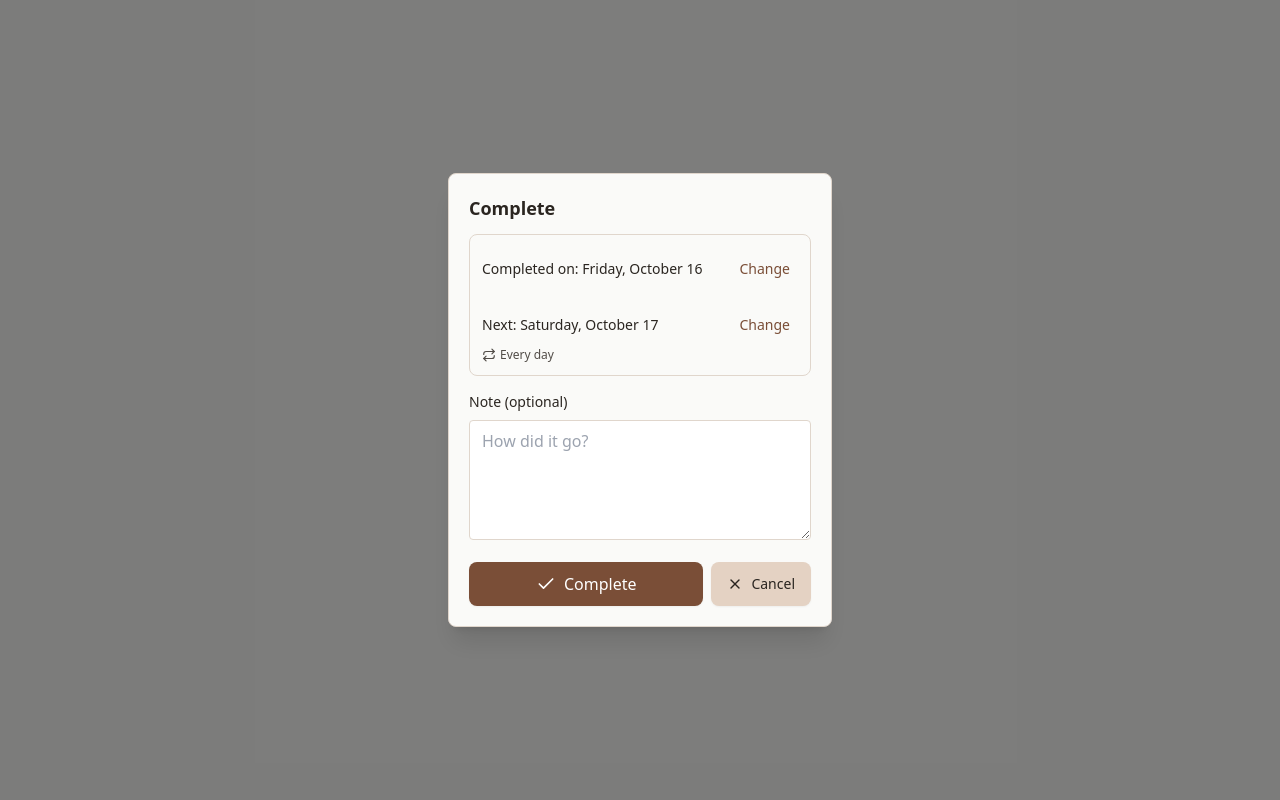
it: while picking, the date shows once under one label
Click the button with aria-label "Change completed on": (765, 269) [732,247,798,291]
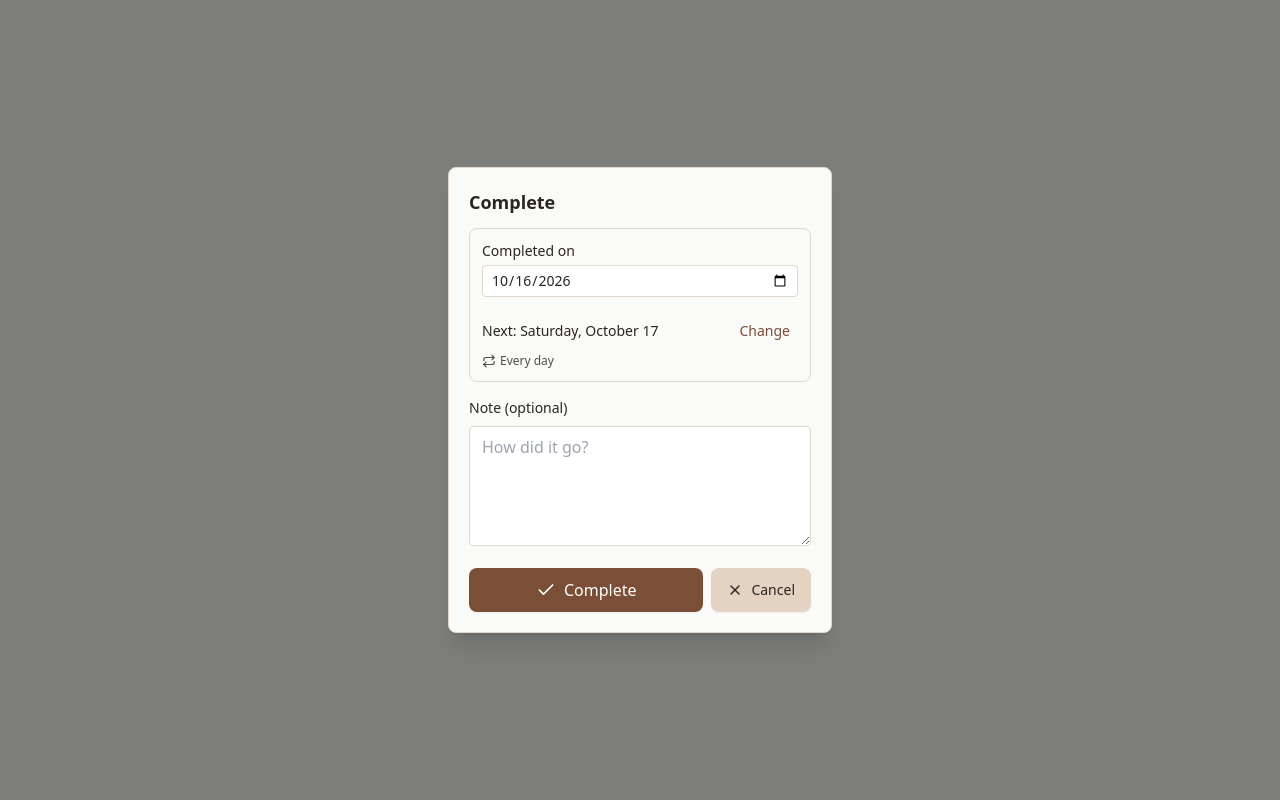
Now the text "Completed on:" is gone
Now the text "Completed on" is shown once, box [482,241,575,260]
Click the button with aria-label "Change next": (765, 331) [732,309,798,353]
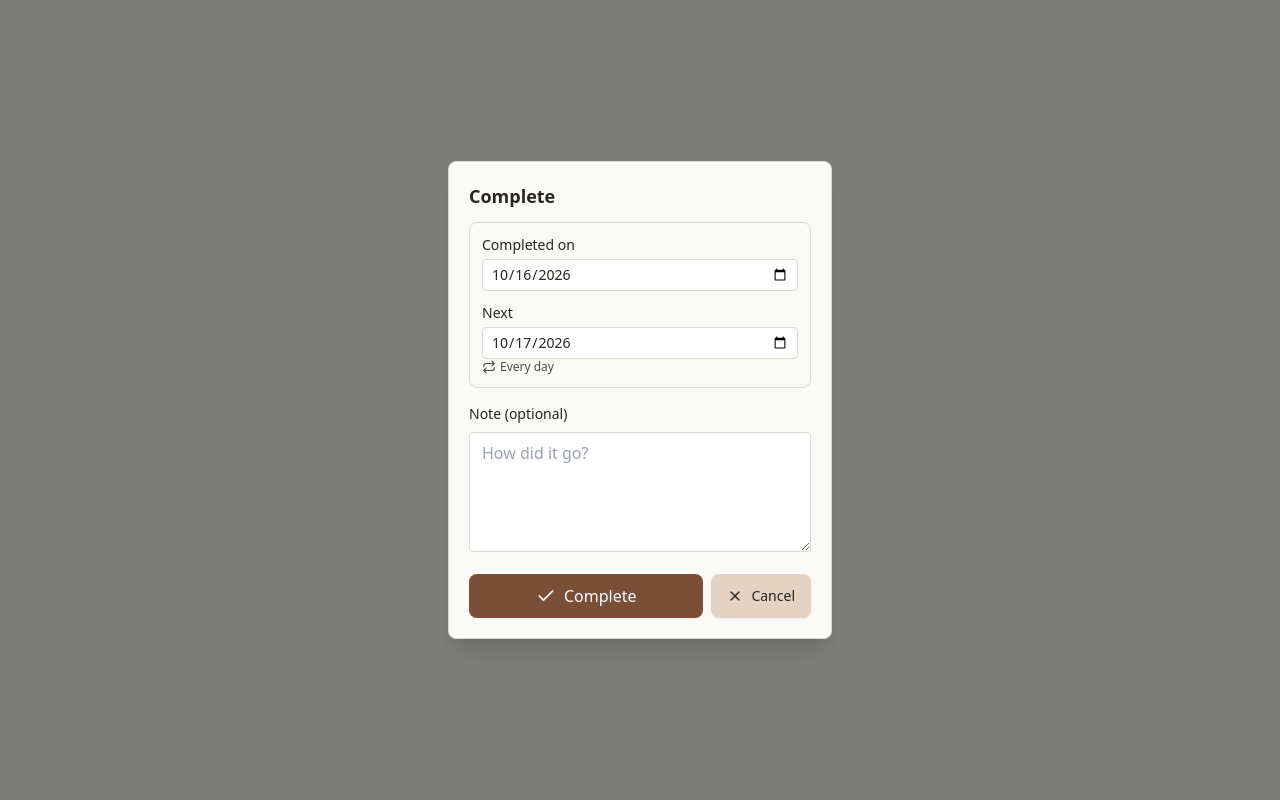
Now the text "Next:" is gone
Now the text "Next" is shown once, box [482,303,513,322]
